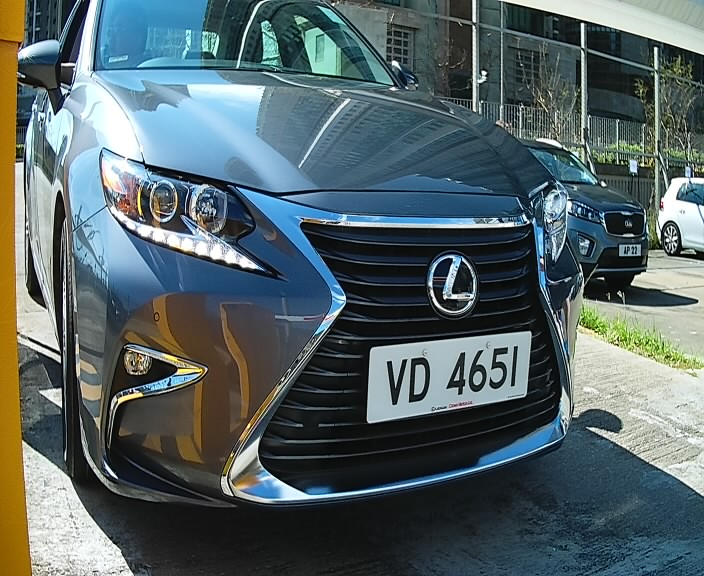Car: (30, 1, 615, 559)
License Plate: (359, 329, 539, 427)
